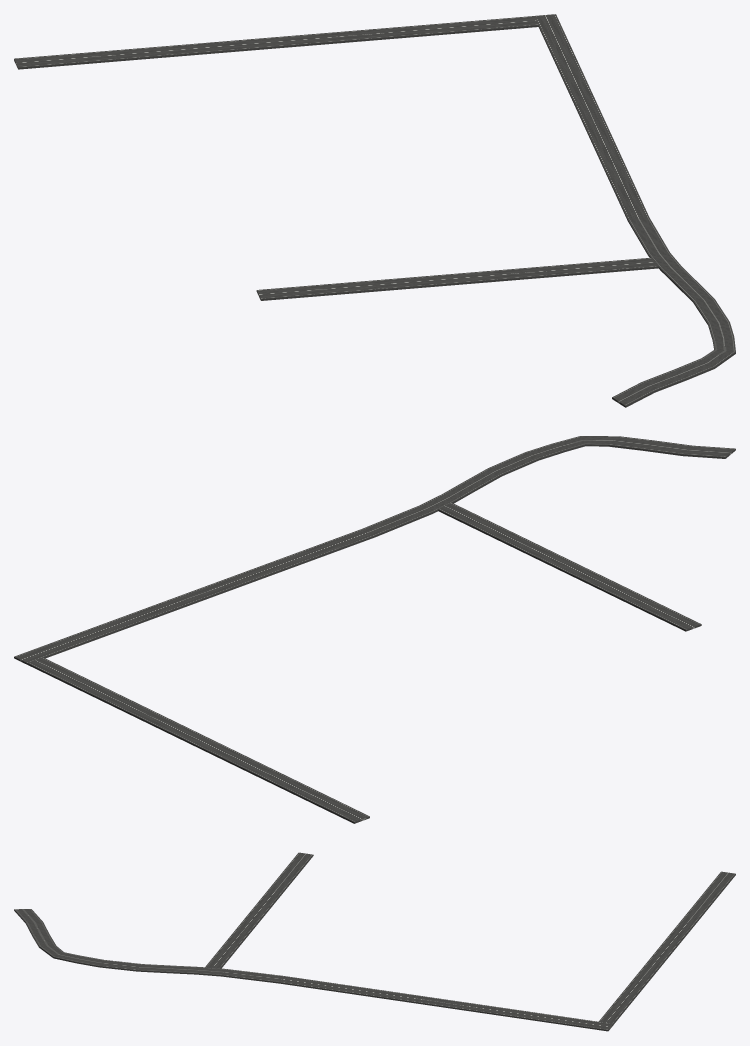
Rendered from All road.glb.
3 views of the same model, one above another, from view 1: azimuth 30°, elevation 25°; view 2: azimuth 150°, elevation 25°; view 3: azimuth 270°, elevation 25° (orthographic). The views are drawn at different scales.
Visible parts, largest first — view 1: pCube7; view 2: pCube7; view 3: pCube7.
Boxes of the visible parts, left/top/right/bottom form: pCube7: left=14, top=14, right=735, bottom=407; pCube7: left=14, top=436, right=735, bottom=823; pCube7: left=14, top=852, right=735, bottom=1031.
Size of the model in its own units: 294 by 1 by 504.
1 material, 1 textured.
